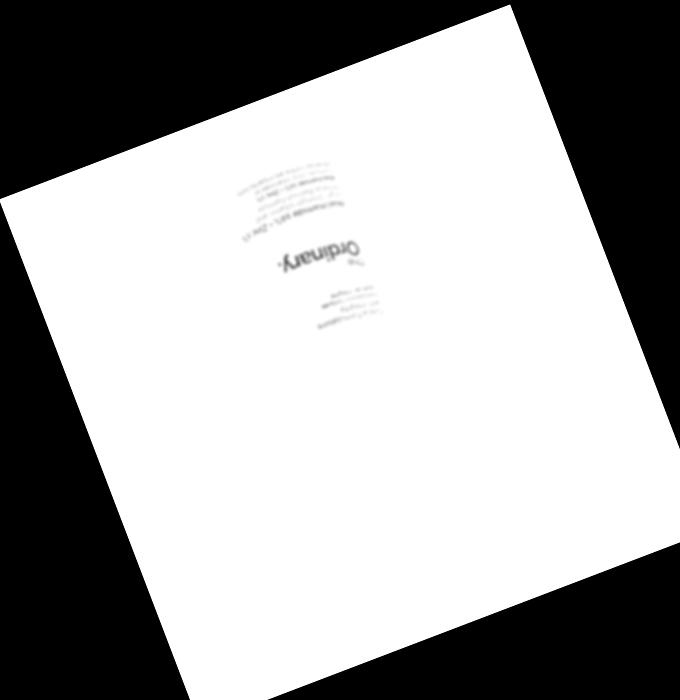cosmetic: (178, 108, 499, 618)
